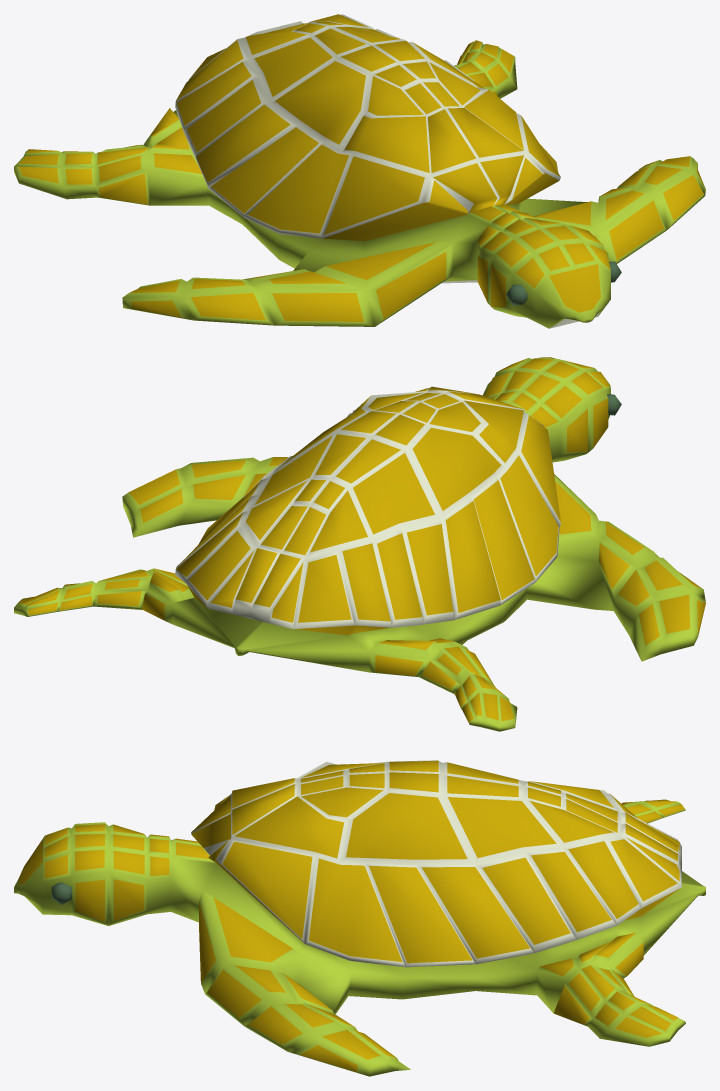
The model's file is turtle.glb.
The picture shows the model from 3 angles, top to bottom: view 1: azimuth 30°, elevation 25°; view 2: azimuth 150°, elevation 25°; view 3: azimuth 270°, elevation 25°; orthographic projection.
Parts seen in each view (by area): view 1: Turtle.1; view 2: Turtle.1; view 3: Turtle.1.
Part boxes in pixels (x1,y1,x2,y2): Turtle.1: (14,14,705,328); Turtle.1: (14,357,705,731); Turtle.1: (14,760,705,1076).
Bounding box in the file's own units: 676 × 204 × 718.
